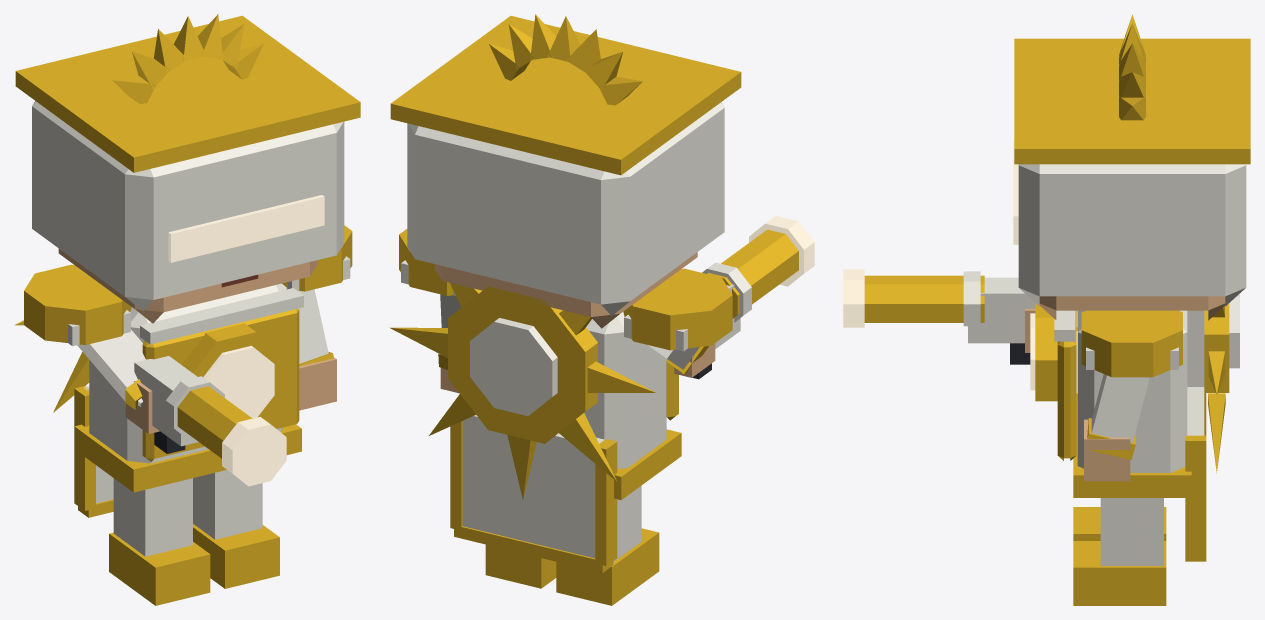
Rendered from blinder_legend.glb.
The picture shows the model from 3 angles, left to right: view 1: azimuth 30°, elevation 25°; view 2: azimuth 150°, elevation 25°; view 3: azimuth 270°, elevation 25°; orthographic projection.
Parts seen in each view (by area): view 1: blinder_legend_mesh; view 2: blinder_legend_mesh; view 3: blinder_legend_mesh.
Part boxes in pixels (<box>): blinder_legend_mesh: <box>14,14,360,605</box>; blinder_legend_mesh: <box>389,14,814,605</box>; blinder_legend_mesh: <box>843,14,1250,605</box>.
Bounding box in the file's own units: 0.7559 × 1.3 × 0.8682.
2 materials, 2 textured.
